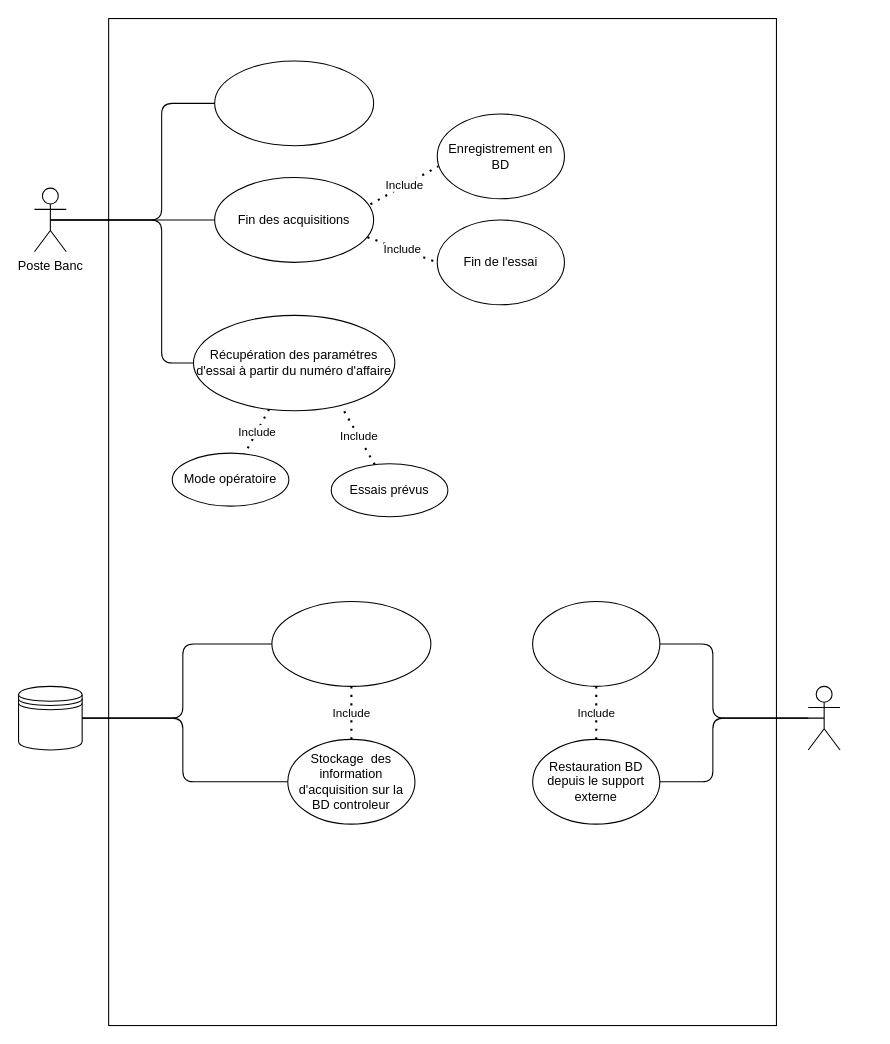
Image size: 890x1044. Some labels were removed from this diagram. The box of each missing label's shape, as (x1, y1, x2, y2) in pixels:
Affichage du tracé CPA,CPB Calcul des rendements: (214, 60, 374, 146)
BDD: (17, 685, 82, 750)
Poste Controleur: (807, 685, 840, 750)
Sauvegarde: (271, 600, 431, 686)
Sauvegarde Sur un support externe: (532, 600, 660, 686)
